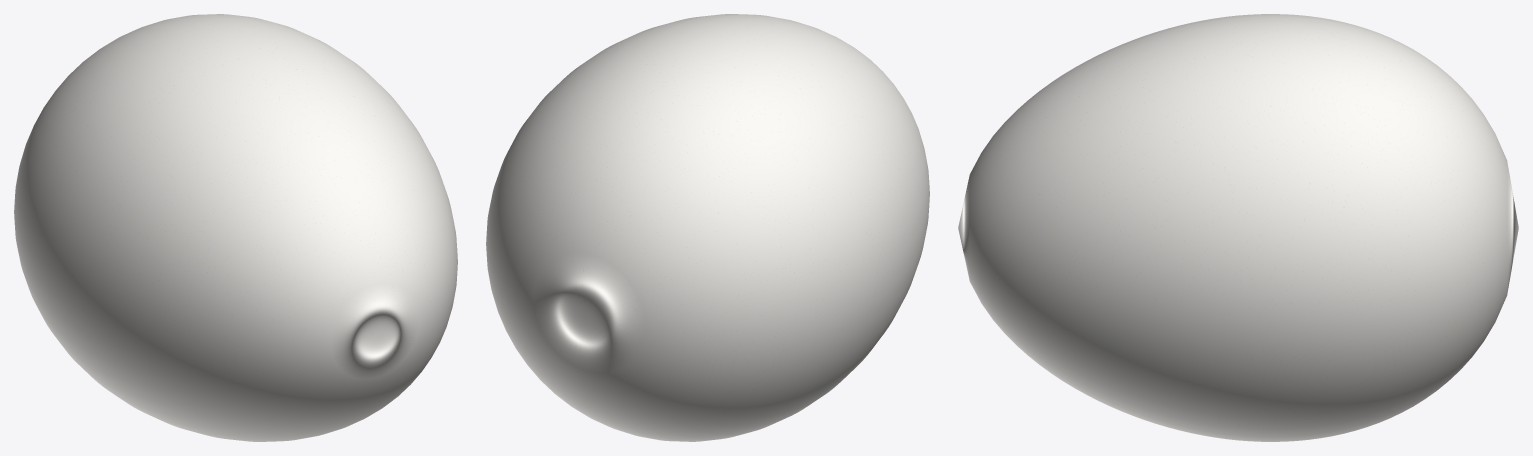
Rendered from egg_white.obj.
3 renders of one model, left to right at view 1: azimuth 30°, elevation 25°; view 2: azimuth 150°, elevation 25°; view 3: azimuth 270°, elevation 25°, orthographic. The views are drawn at different scales.
Size of the model in its own units: 0.0443 by 0.0443 by 0.058.
Materials: 1 (1 with a texture image).
